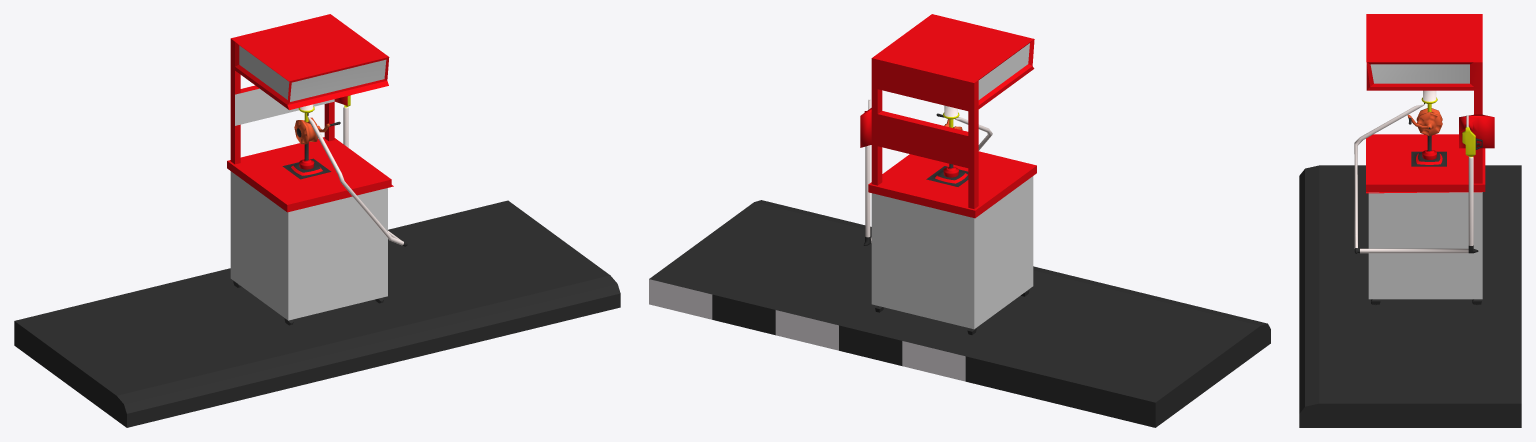
Rendered from gasoline.glb.
3 views of the same model, side by side, from view 1: azimuth 30°, elevation 25°; view 2: azimuth 150°, elevation 25°; view 3: azimuth 270°, elevation 25° (orthographic). The views are drawn at different scales.
Parts seen in each view (by area): view 1: bahu_jalan, box_pertamini_manual; view 2: bahu_jalan, box_pertamini_manual; view 3: bahu_jalan, box_pertamini_manual.
Part boxes in pixels (x1,y1,x2,y2): bahu_jalan: (14,200,620,427); box_pertamini_manual: (227,14,407,325); bahu_jalan: (649,200,1270,427); box_pertamini_manual: (860,14,1036,334); bahu_jalan: (1299,165,1521,427); box_pertamini_manual: (1354,14,1494,305).
Bounding box in the file's own units: 9.88 × 5.24 × 3.9.
